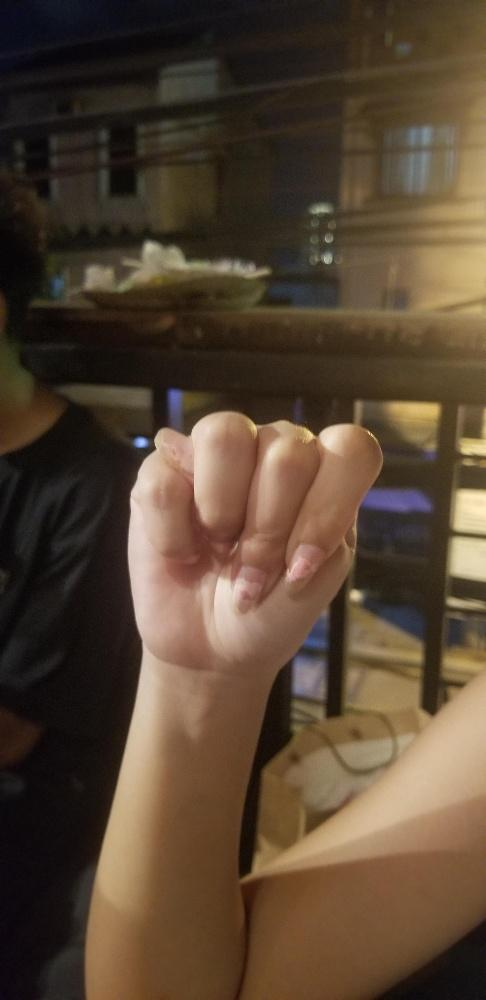m: (125, 405, 384, 685)
